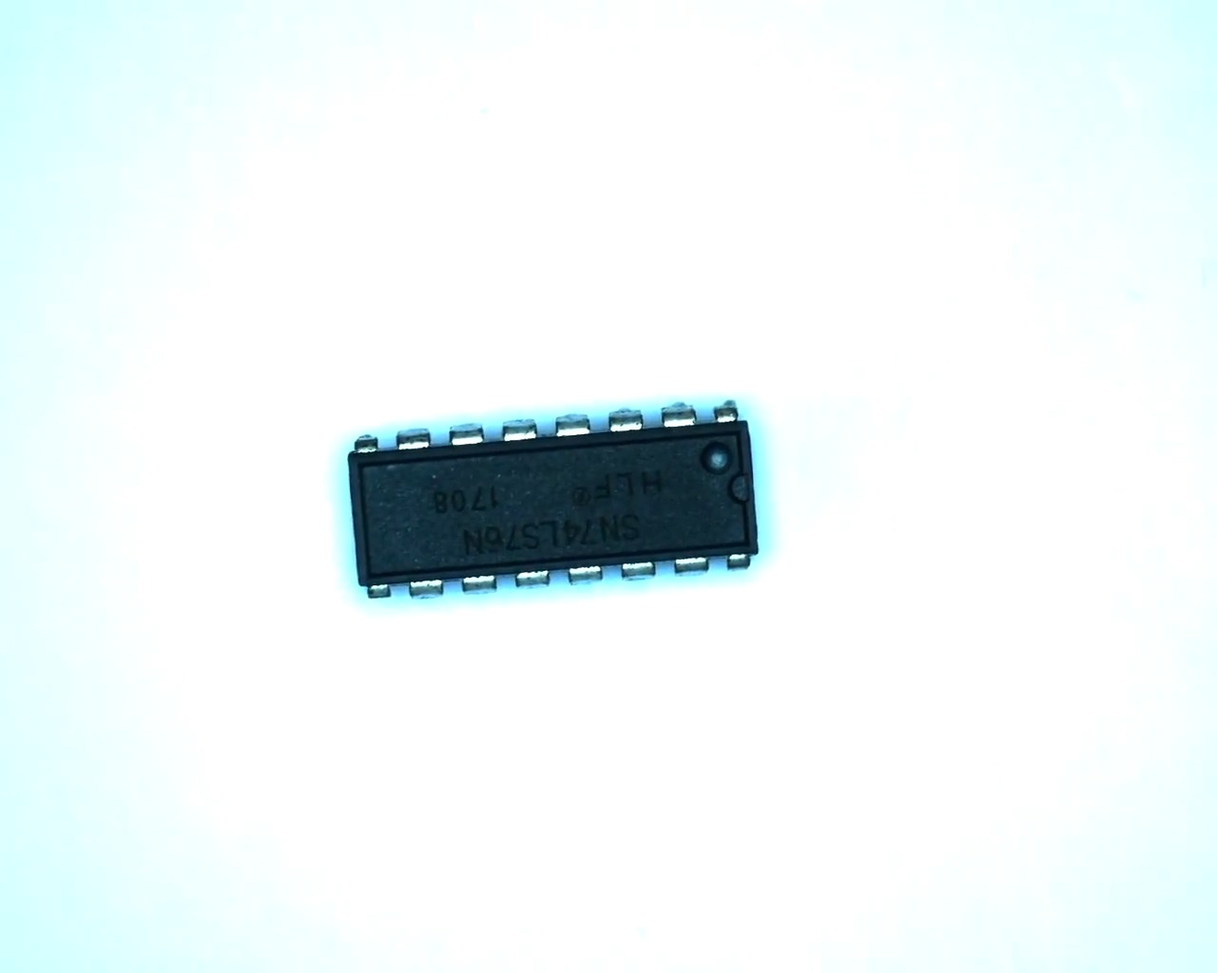IC: (334, 388, 770, 615)
notch: (725, 467, 757, 513)
